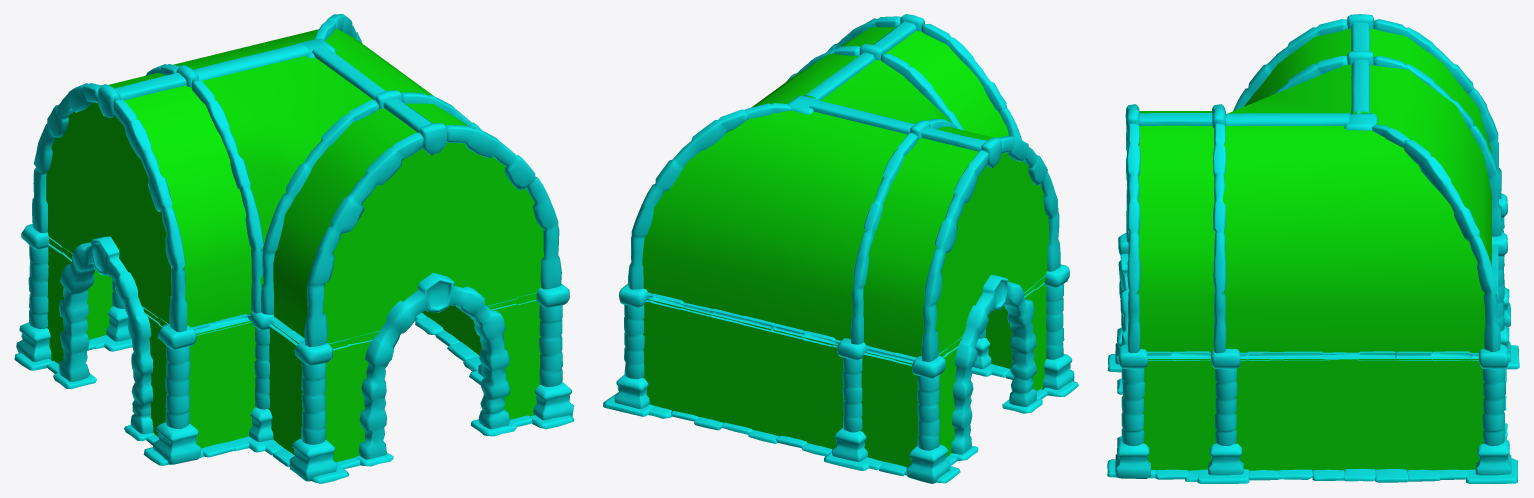
Rendered from Hallway_Corner_1.fbx.
3 views of the same model, side by side, from view 1: azimuth 30°, elevation 25°; view 2: azimuth 150°, elevation 25°; view 3: azimuth 270°, elevation 25° (orthographic). The views are drawn at different scales.
Parts seen in each view (by area): view 1: Room_Corner_1:WallsCorner, Room_Corner_1:CornerFrame; view 2: Room_Corner_1:WallsCorner, Room_Corner_1:CornerFrame; view 3: Room_Corner_1:WallsCorner, Room_Corner_1:CornerFrame.
Boxes of the visible parts, x1,y1,x2,y2 form: Room_Corner_1:WallsCorner: (46,28,544,462); Room_Corner_1:CornerFrame: (14,14,574,483); Room_Corner_1:WallsCorner: (642,27,1048,467); Room_Corner_1:CornerFrame: (603,14,1078,483); Room_Corner_1:WallsCorner: (1138,28,1491,470); Room_Corner_1:CornerFrame: (1107,14,1519,483).
Bounding box in the file's own units: 1085 × 1088 × 895.
